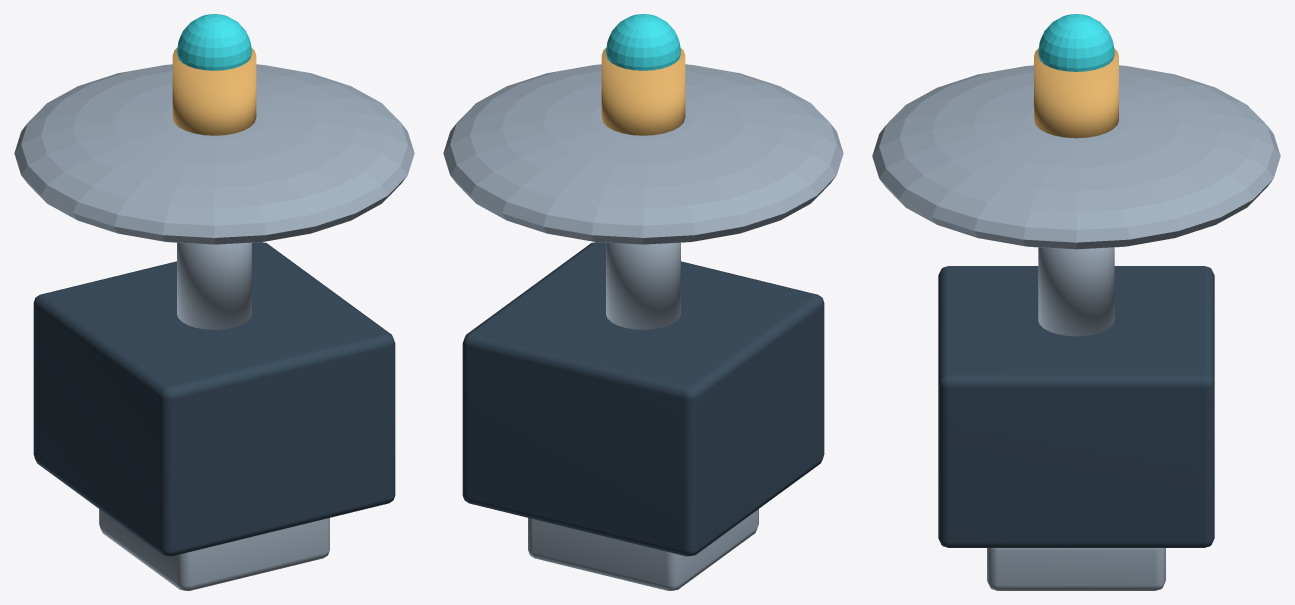
File: microwave_radiometer.glb
3 views of the same model, side by side, from view 1: azimuth 30°, elevation 25°; view 2: azimuth 150°, elevation 25°; view 3: azimuth 270°, elevation 25° (orthographic). The views are drawn at different scales.
Parts seen in each view (by area): view 1: Radiometer_Electronics, Radiometer_Dish, Mounting_Flange, Feed_Support, Feed_Horn, Feed_Tip; view 2: Radiometer_Electronics, Radiometer_Dish, Mounting_Flange, Feed_Support, Feed_Horn, Feed_Tip; view 3: Radiometer_Electronics, Radiometer_Dish, Mounting_Flange, Feed_Support, Feed_Horn, Feed_Tip.
Part boxes in pixels (bbox=[...]): Radiometer_Electronics: bbox=[33, 242, 395, 556]; Radiometer_Dish: bbox=[14, 64, 414, 244]; Mounting_Flange: bbox=[99, 509, 329, 590]; Feed_Support: bbox=[177, 242, 251, 329]; Feed_Horn: bbox=[172, 47, 256, 135]; Feed_Tip: bbox=[177, 14, 251, 70]; Radiometer_Electronics: bbox=[462, 242, 824, 556]; Radiometer_Dish: bbox=[443, 64, 843, 244]; Mounting_Flange: bbox=[528, 509, 758, 590]; Feed_Support: bbox=[606, 242, 680, 329]; Feed_Horn: bbox=[601, 47, 685, 135]; Feed_Tip: bbox=[606, 14, 680, 70]; Radiometer_Electronics: bbox=[938, 266, 1214, 547]; Radiometer_Dish: bbox=[872, 65, 1280, 249]; Mounting_Flange: bbox=[987, 548, 1165, 590]; Feed_Support: bbox=[1038, 247, 1114, 336]; Feed_Horn: bbox=[1034, 48, 1118, 138]; Feed_Tip: bbox=[1038, 14, 1114, 71].
Bounding box in the file's own units: 0.96 × 1.4 × 0.96.
